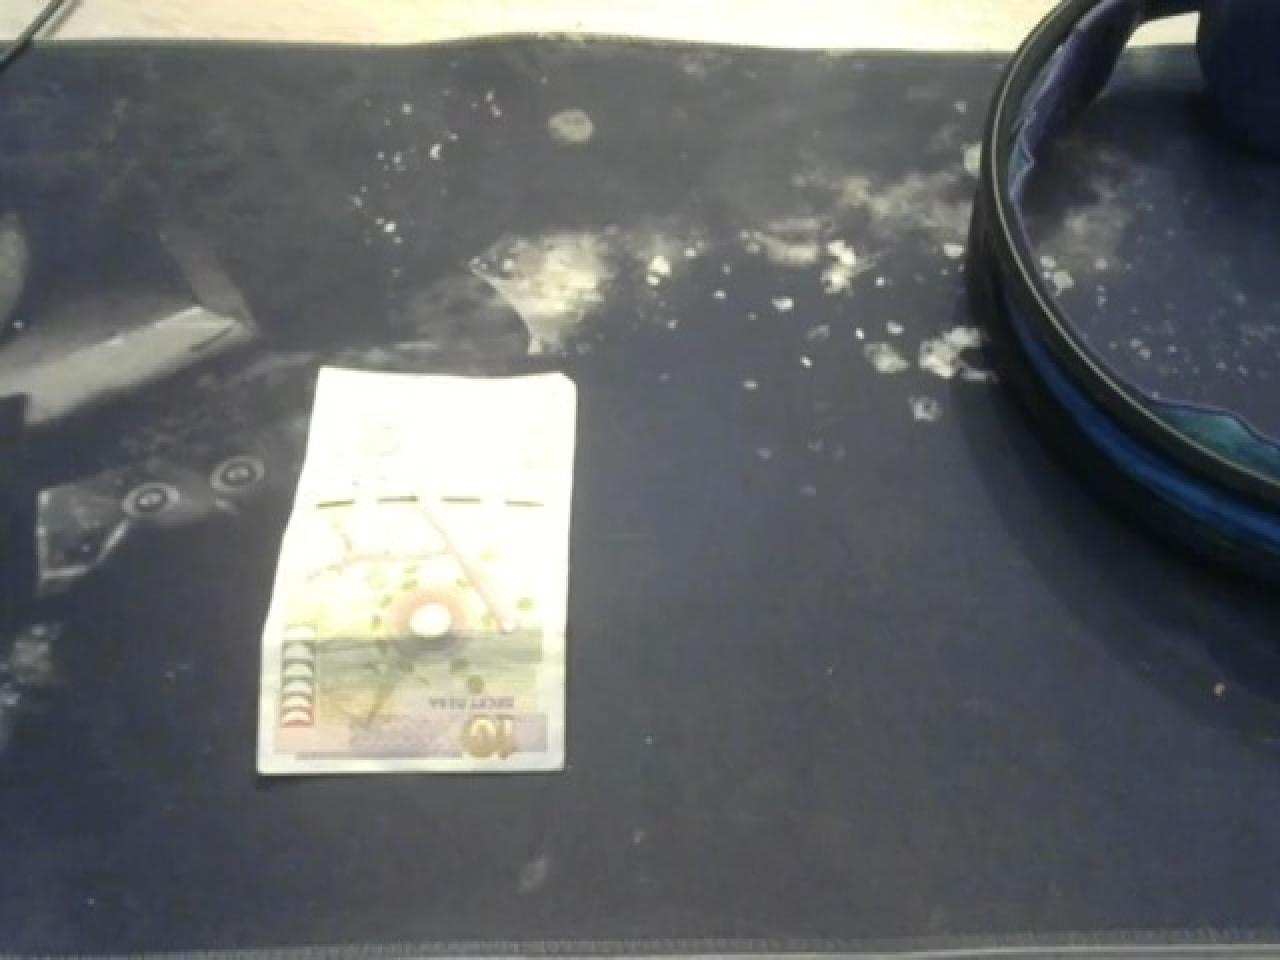10leva: (252, 362, 578, 778)
